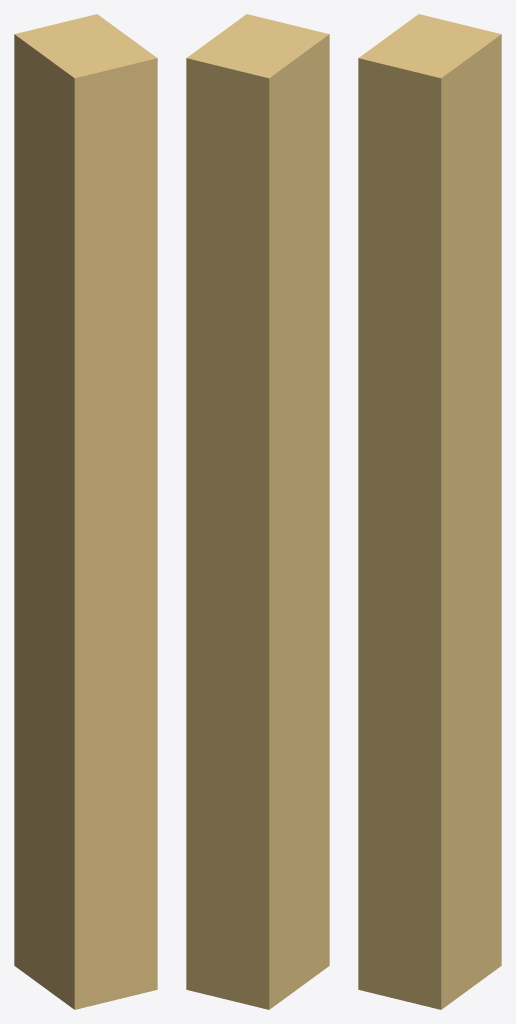
The model's file is Tribunal_Coin02.fbx.
The picture shows the model from 3 angles, left to right: view 1: azimuth 30°, elevation 25°; view 2: azimuth 150°, elevation 25°; view 3: azimuth 330°, elevation 25°; orthographic projection.
Visible parts, largest first — view 1: Coin02; view 2: Coin02; view 3: Coin02.
Boxes of the visible parts, <box> form: Coin02: <box>14,14,157,1009</box>; Coin02: <box>186,14,329,1009</box>; Coin02: <box>358,14,501,1009</box>.
Size of the model in its own units: 0.6032 by 6.49 by 0.7612.
